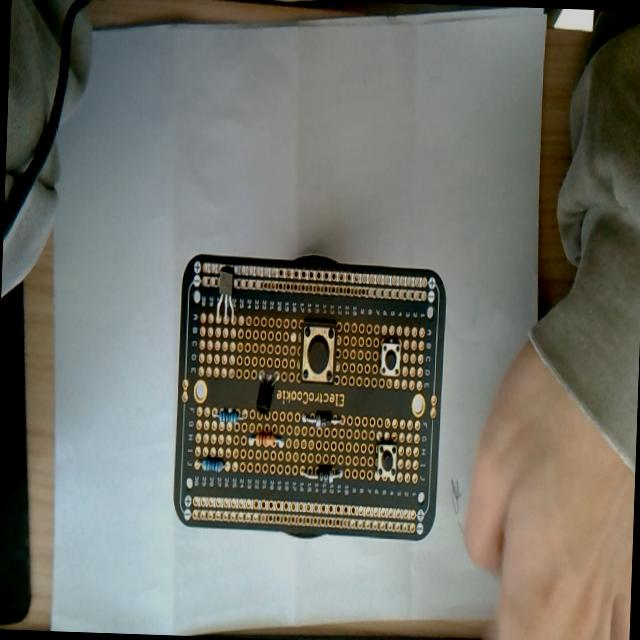diode: (297, 407, 348, 432), (300, 464, 342, 484)
resistor: (193, 450, 228, 478), (248, 427, 287, 451), (202, 404, 245, 423)
switch: (300, 321, 336, 384), (379, 339, 401, 377), (376, 443, 398, 479)
transistor: (212, 264, 244, 329), (254, 366, 277, 416)
